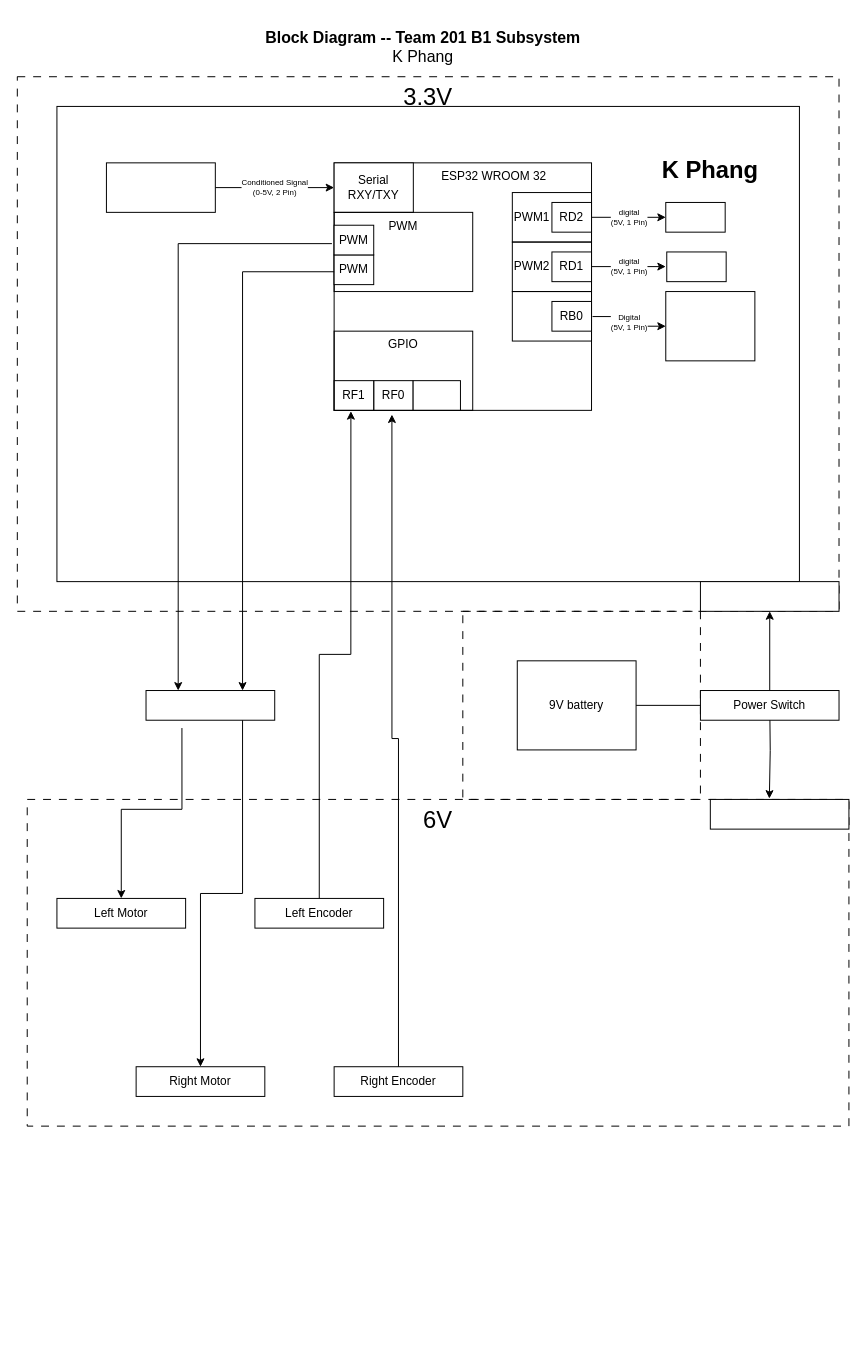
Image size: 866x1350. Some labels were removed from this diagram. Here are the shapes that lost their labels. From the top down, the box of each, then its label:
(105, 162, 215, 212): Control System
(665, 201, 725, 232): Debug LED
(666, 251, 726, 282): Debug Button
(511, 291, 592, 341): PWM3
(665, 291, 755, 361): Power on LED
(412, 380, 460, 410): RC0
(699, 581, 839, 611): 3.3V Voltage Regulator
(145, 690, 275, 720): H bridge
(462, 610, 700, 799): 9V
(709, 798, 849, 829): 6V Voltage Regulator
